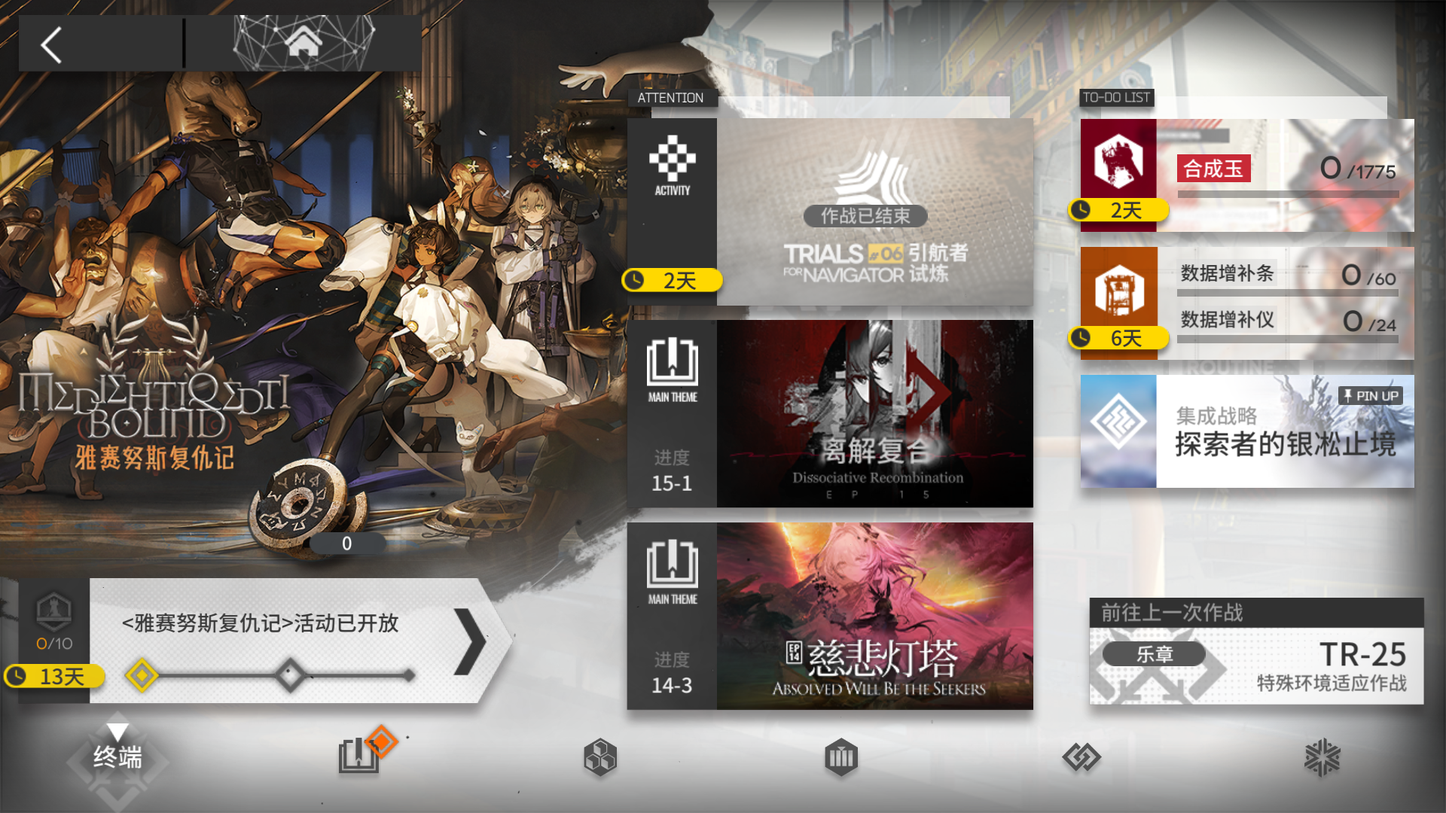Resource_Collection_Button: (525, 721, 723, 801)
Return_Button: (9, 20, 159, 69)
